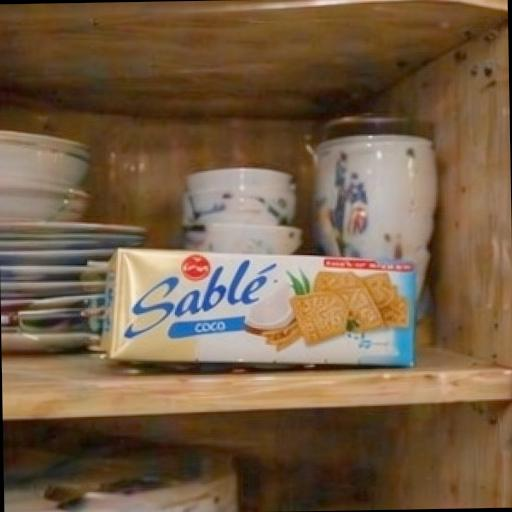sable: (45, 202, 473, 442)
